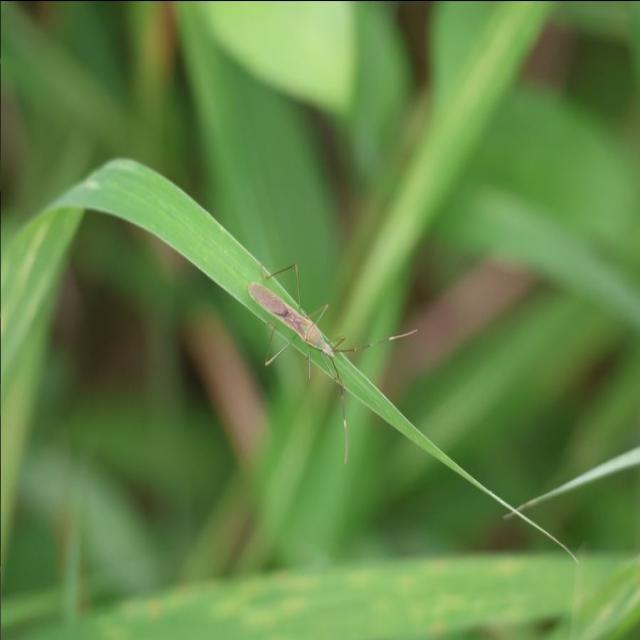walang sangit pada tanaman padi: (245, 259, 418, 464)
